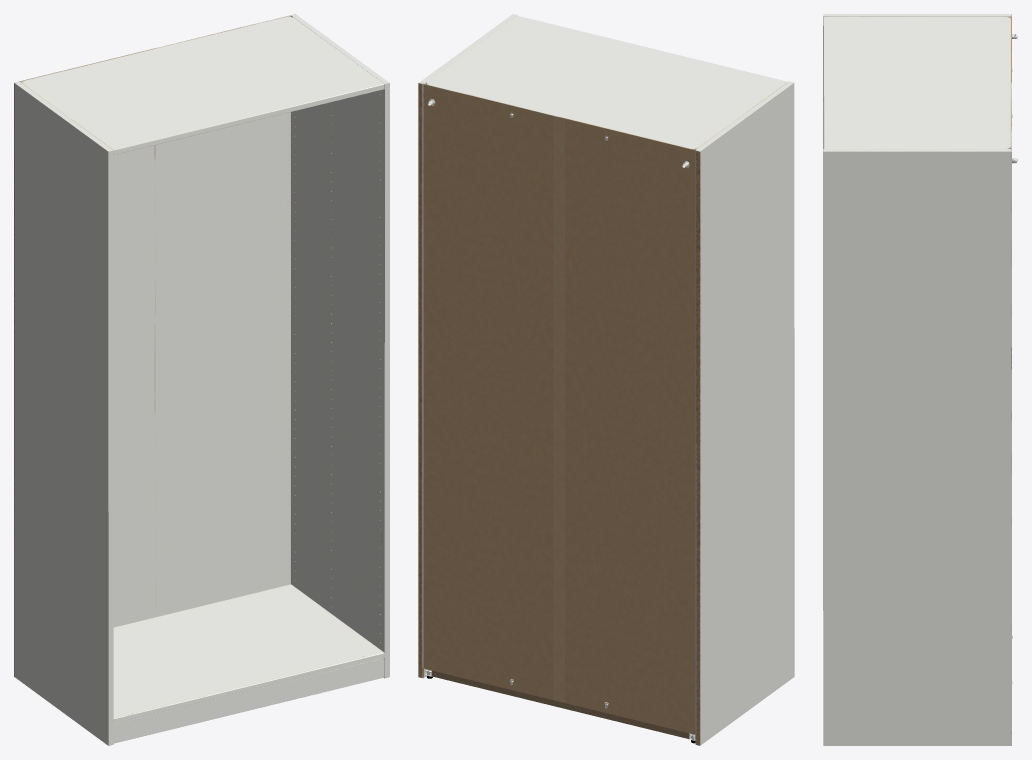
Rendered from wardrobe_pax_70458203.glb.
3 renders of one model, left to right at view 1: azimuth 30°, elevation 25°; view 2: azimuth 150°, elevation 25°; view 3: azimuth 270°, elevation 25°, orthographic.
Parts seen in each view (by area): view 1: ASY_ART_70458203_S01_NV01; view 2: ASY_ART_70458203_S01_NV01; view 3: ASY_ART_70458203_S01_NV01.
Boxes of the visible parts, left/top/right/bottom form: ASY_ART_70458203_S01_NV01: left=14, top=14, right=389, bottom=745; ASY_ART_70458203_S01_NV01: left=418, top=14, right=794, bottom=745; ASY_ART_70458203_S01_NV01: left=823, top=14, right=1017, bottom=745.
Bounding box in the file's own units: 0.9975 × 2.01 × 0.5973.
Materials: 2 (2 with a texture image).
